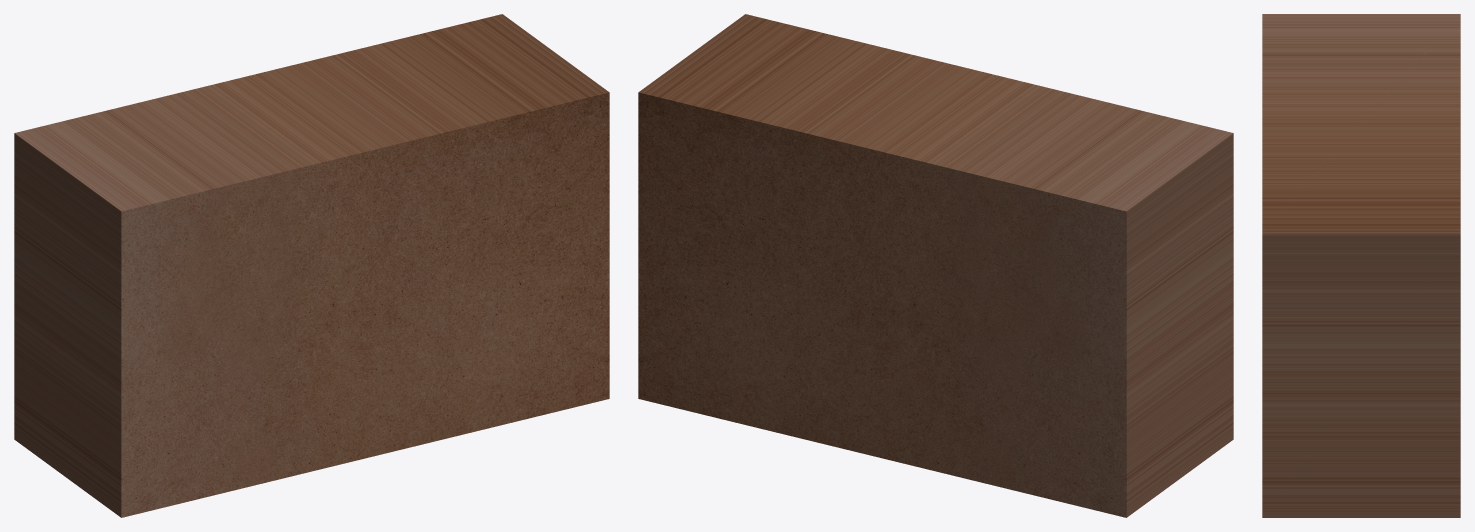
Rendered from objet.glb.
3 renders of one model, left to right at view 1: azimuth 30°, elevation 25°; view 2: azimuth 150°, elevation 25°; view 3: azimuth 270°, elevation 25°, orthographic. The views are drawn at different scales.
Visible parts, largest first — view 1: world; view 2: world; view 3: world.
Part boxes in pixels (bbox=[...]): world: bbox=[14, 14, 609, 517]; world: bbox=[638, 14, 1233, 517]; world: bbox=[1262, 14, 1460, 517].
Size of the model in its own units: 50 by 30 by 19.
1 material, 1 textured.
